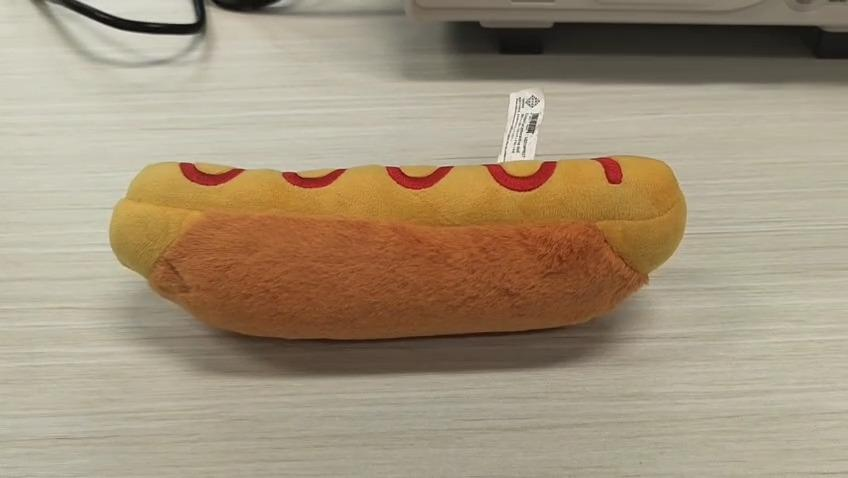hotdog: (108, 161, 687, 341)
